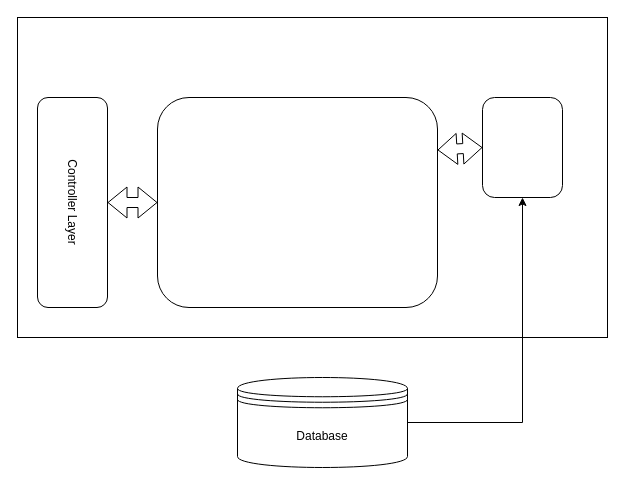
The diagram is 625 pixels wide and 485 high, and some of its shapes have lost their labels. Here are the shapes that lost their labels. From the top down, the centre of each, then its label:
At (522,147): "DAO Layer".
At (297,202): "Service Layer".
